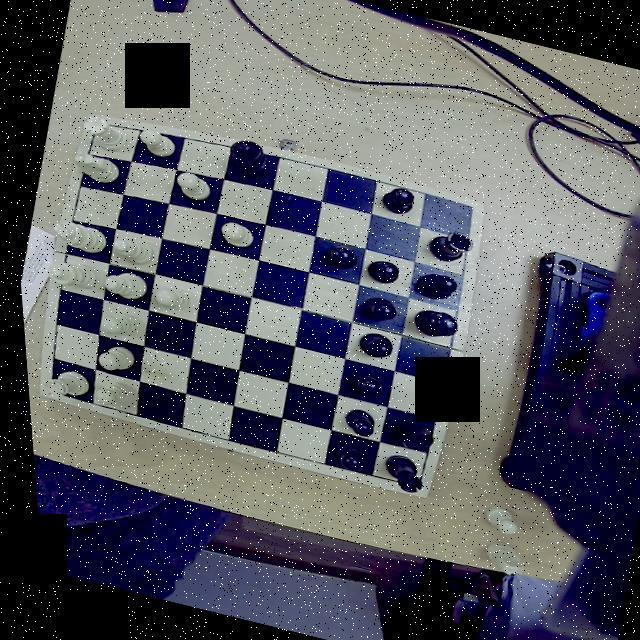chess-table-corners: (449, 196, 480, 222), (398, 470, 426, 496), (32, 380, 64, 401), (81, 115, 108, 138)
